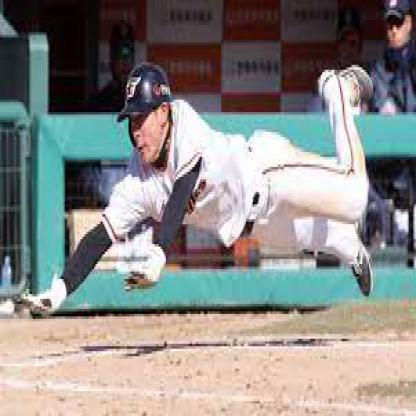Fall_Down: (11, 57, 378, 326)
